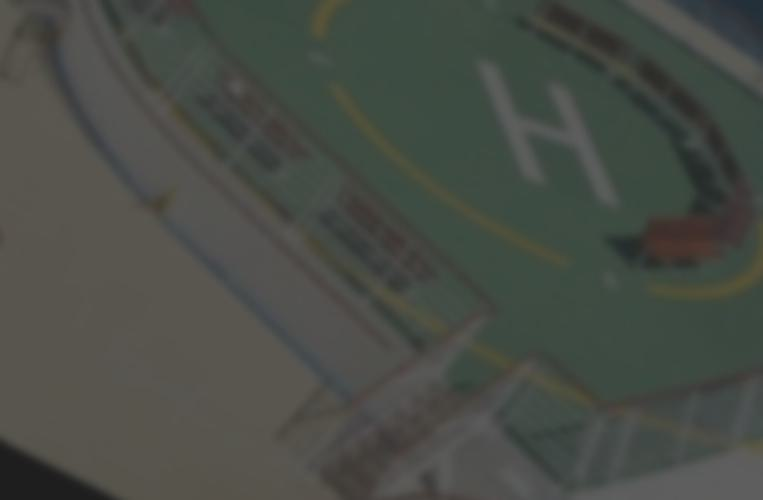Apron: (300, 1, 763, 306)
